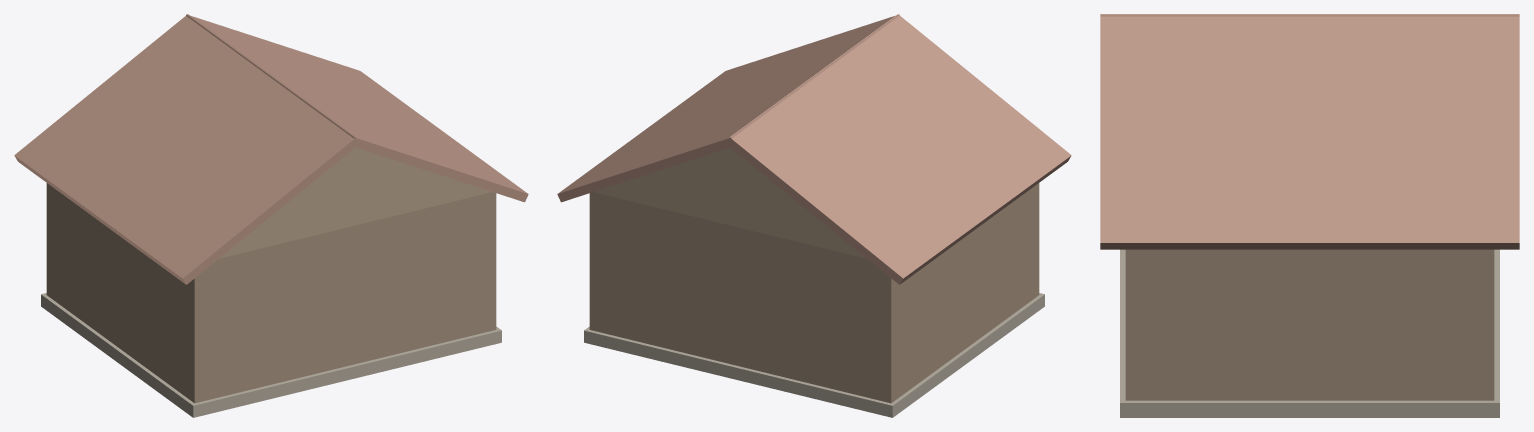
3 renders of one model, left to right at view 1: azimuth 30°, elevation 25°; view 2: azimuth 150°, elevation 25°; view 3: azimuth 270°, elevation 25°, orthographic. The views are drawn at different scales.
Visible parts, largest first — view 1: StaticGeometry; view 2: StaticGeometry; view 3: StaticGeometry.
Boxes of the visible parts, bbox=[...] form: StaticGeometry: bbox=[14, 14, 528, 417]; StaticGeometry: bbox=[557, 14, 1071, 417]; StaticGeometry: bbox=[1100, 14, 1519, 417].
Size of the model in its own units: 6.88 by 4.73 by 5.8.
